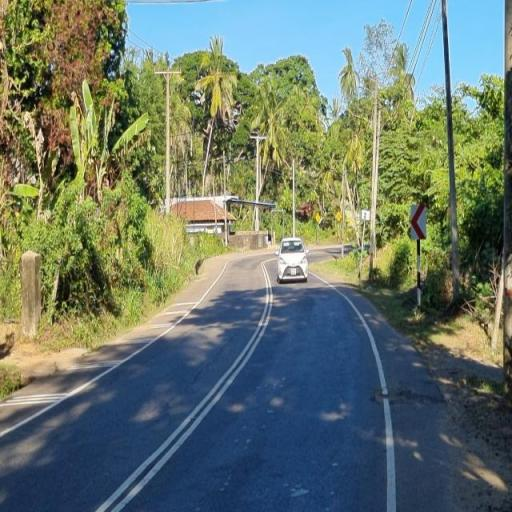double_white_line: (96, 255, 275, 512)
